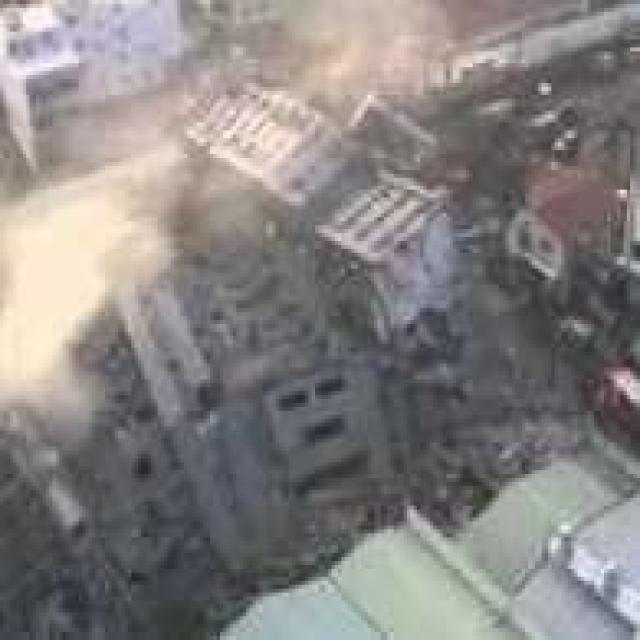collapsed_building: (121, 40, 466, 545)
